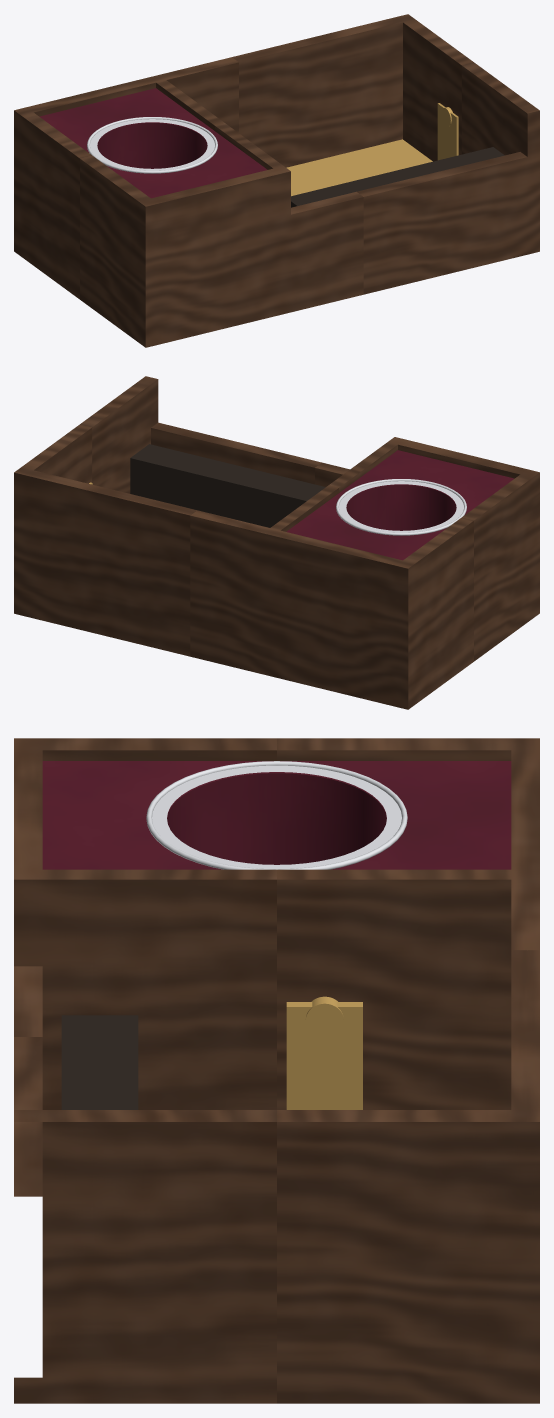
File: box_walnut.glb
The picture shows the model from 3 angles, top to bottom: view 1: azimuth 30°, elevation 25°; view 2: azimuth 150°, elevation 25°; view 3: azimuth 270°, elevation 25°; orthographic projection. The views are drawn at different scales.
Visible parts, largest first — view 1: box_walnut; view 2: box_walnut; view 3: box_walnut.
Part boxes in pixels (x1,y1,x2,y2): box_walnut: (14, 14, 539, 347); box_walnut: (14, 376, 539, 709); box_walnut: (14, 738, 539, 1403).
Bounding box in the file's own units: 0.38 × 0.13 × 0.22.
5 materials, 2 textured.
